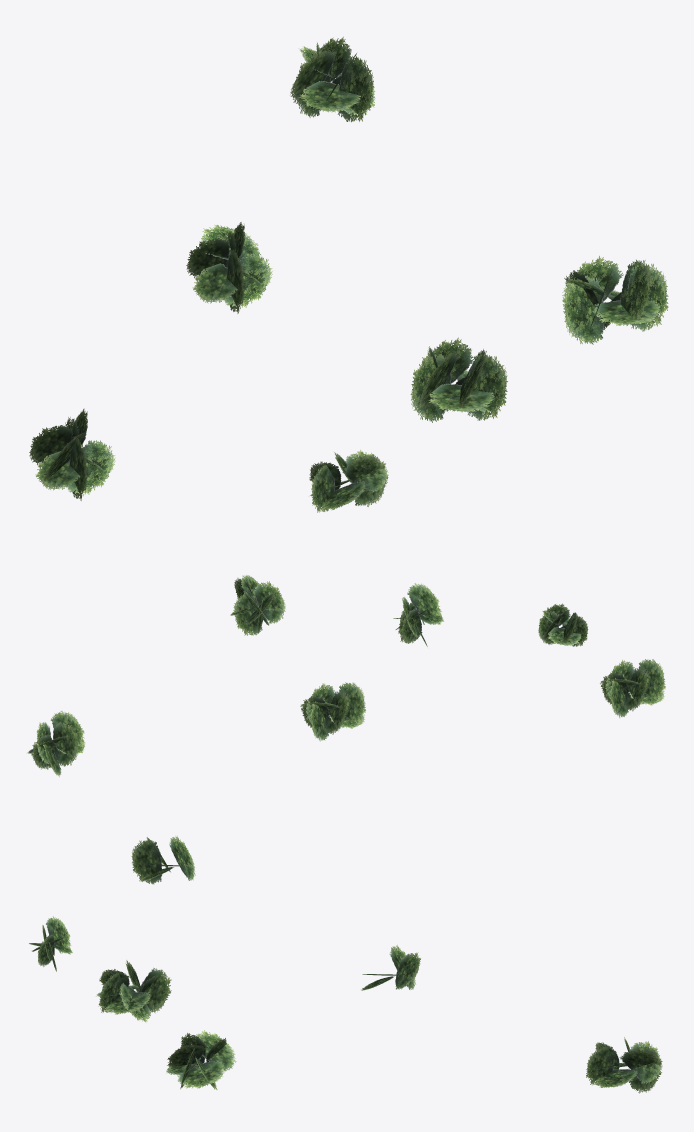
Rendered from Fence_2.fbx.
3 views of the same model, one above another, from view 1: azimuth 30°, elevation 25°; view 2: azimuth 150°, elevation 25°; view 3: azimuth 270°, elevation 25° (orthographic). The views are drawn at different scales.
Parts seen in each view (by area): view 1: Plane.057; view 2: Plane.057; view 3: Plane.057.
Boxes of the visible parts, x1,y1,x2,y2 form: Plane.057: (29, 36, 668, 512); Plane.057: (27, 574, 665, 776); Plane.057: (29, 835, 662, 1093).
Bounding box in the file's own units: 47.41 × 7.51 × 55.06.
1 material, 1 textured.
